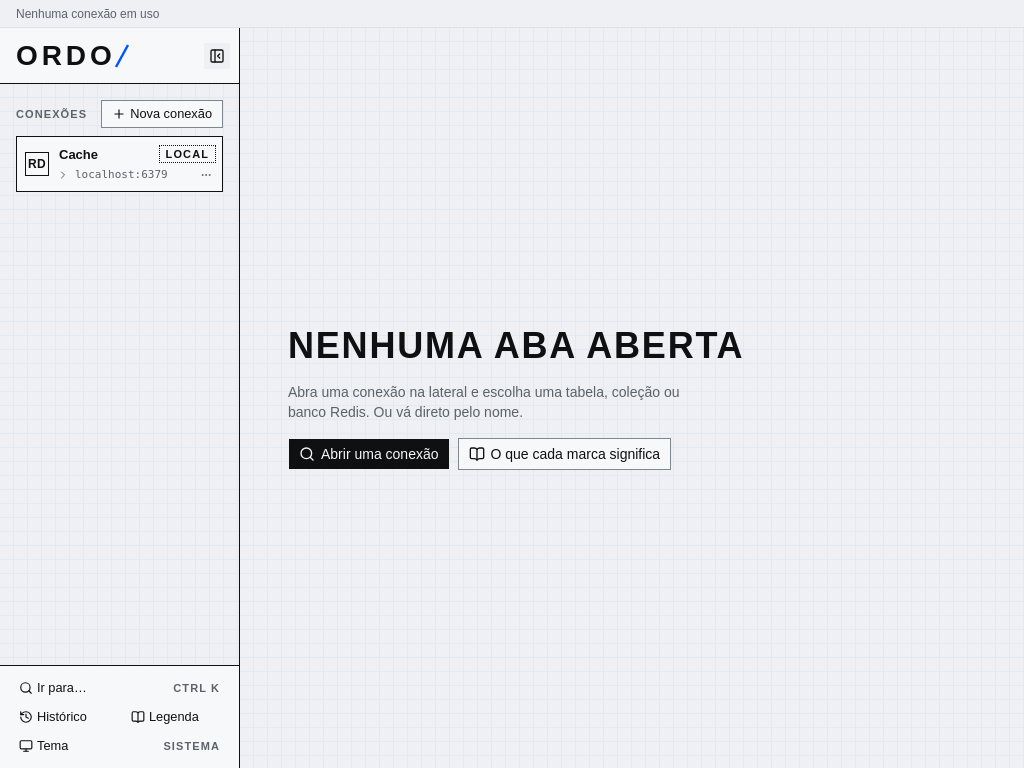
Test: a server that refuses MODULE LIST still shows INFO
What coordinates should you click on to do the following:
click the list item "RD Cache Local localhost:6379"
I would click on:
 (120, 164)
Its box is [17, 137, 222, 191].
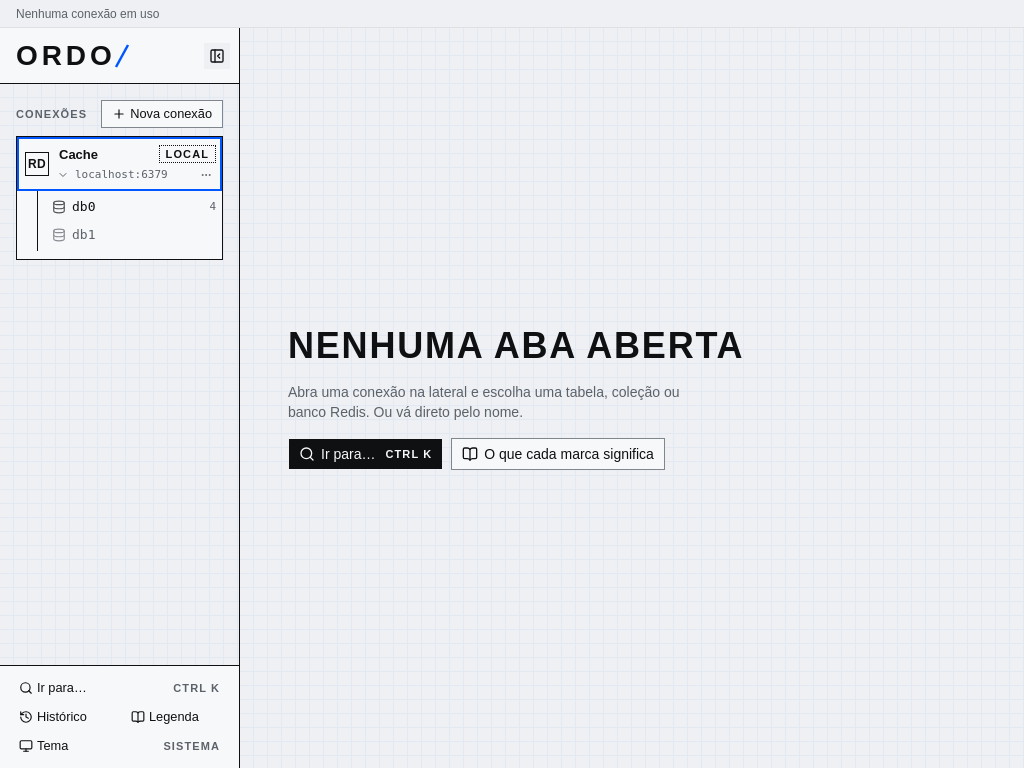
What coordinates should you click on to do the following:
click the list item "db0 4"
I would click on:
 (134, 207)
Its box is [46, 193, 222, 221].
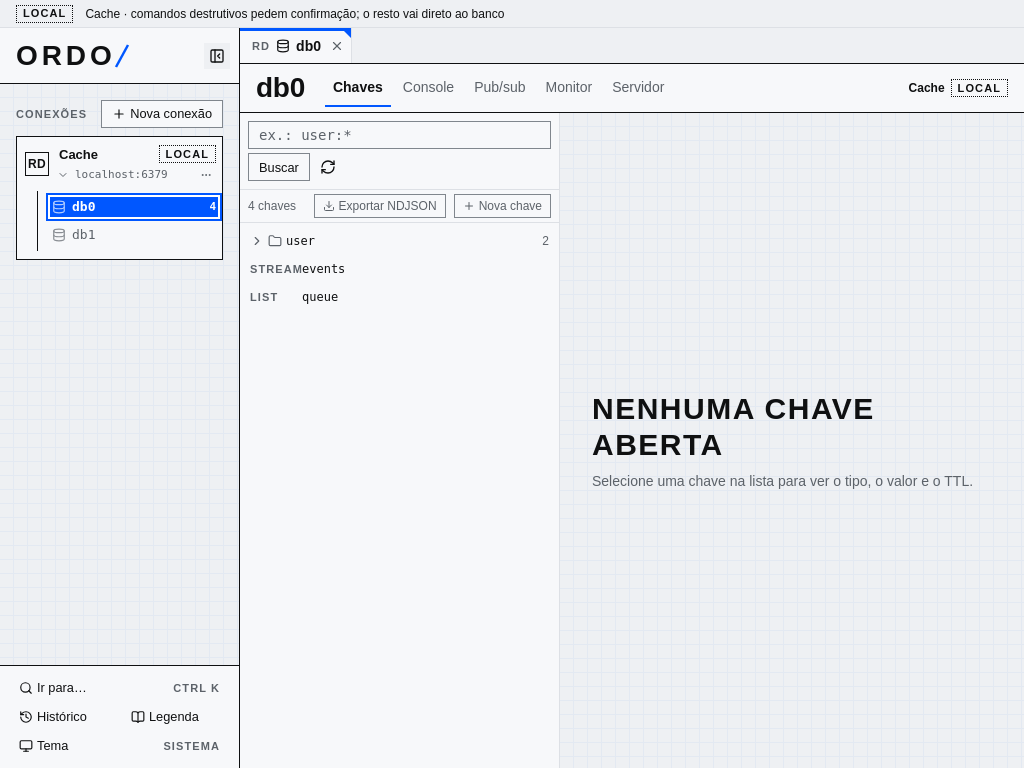
Expected: the list named "Chaves" is shown, [244, 227, 555, 311]
What coordinates should you click on to do the following:
click the tab "Servidor"
I would click on:
 (638, 88)
Its box is [604, 69, 672, 107].
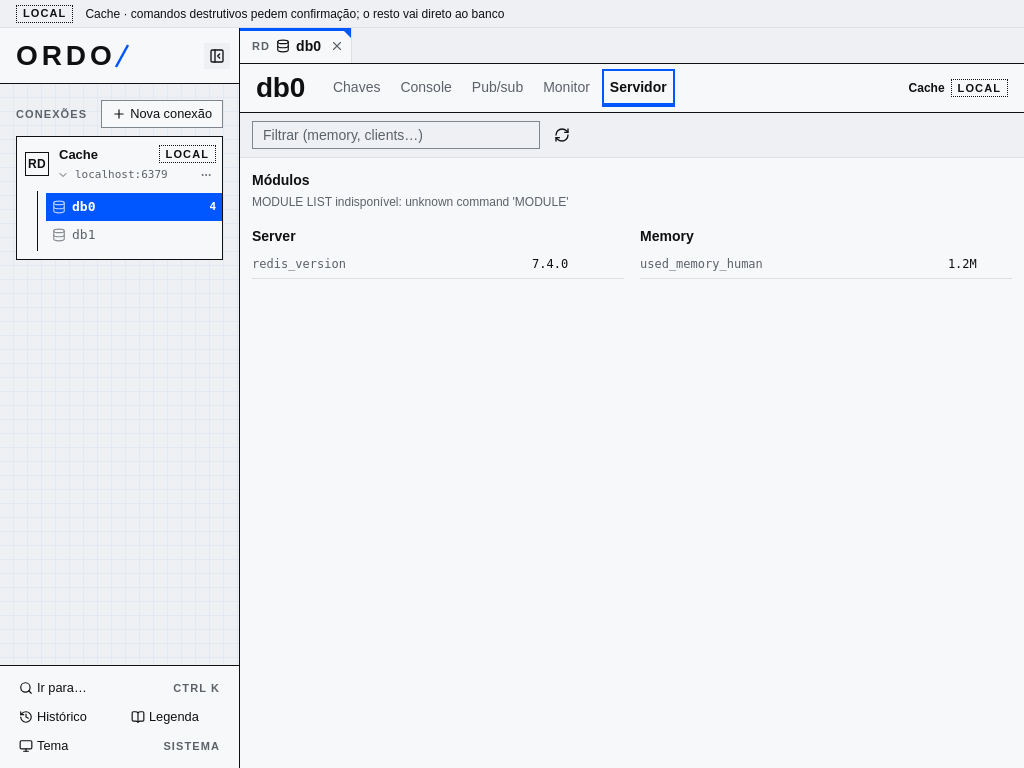
Expected: the text "MODULE LIST indisponível: unknown command 'MODULE'" is shown, [252, 195, 568, 209]
Expected: the text "redis_version" is shown, [252, 250, 532, 278]
